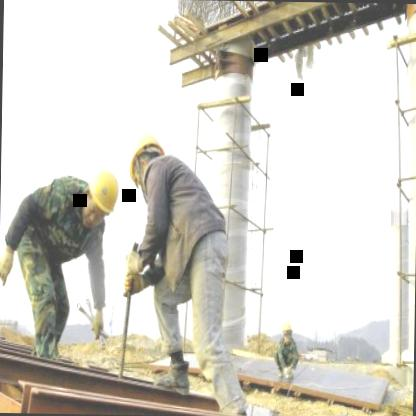helmet: (124, 131, 167, 201), (82, 162, 124, 228), (280, 321, 296, 343)
